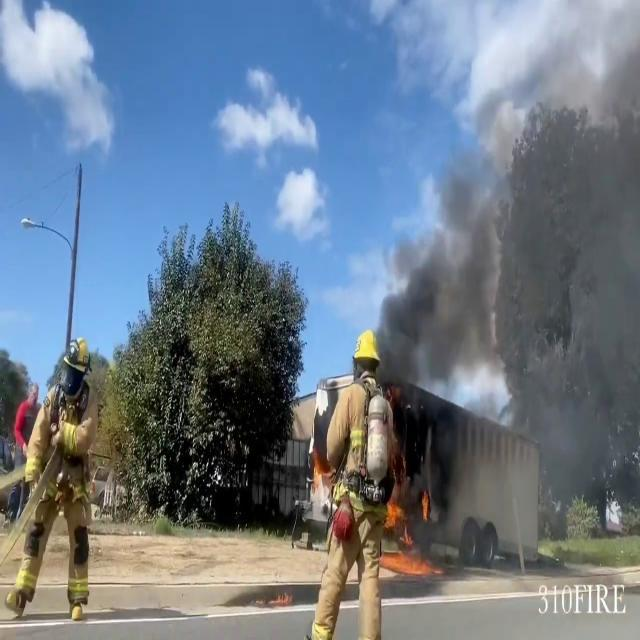Smoke: (376, 13, 640, 551)
